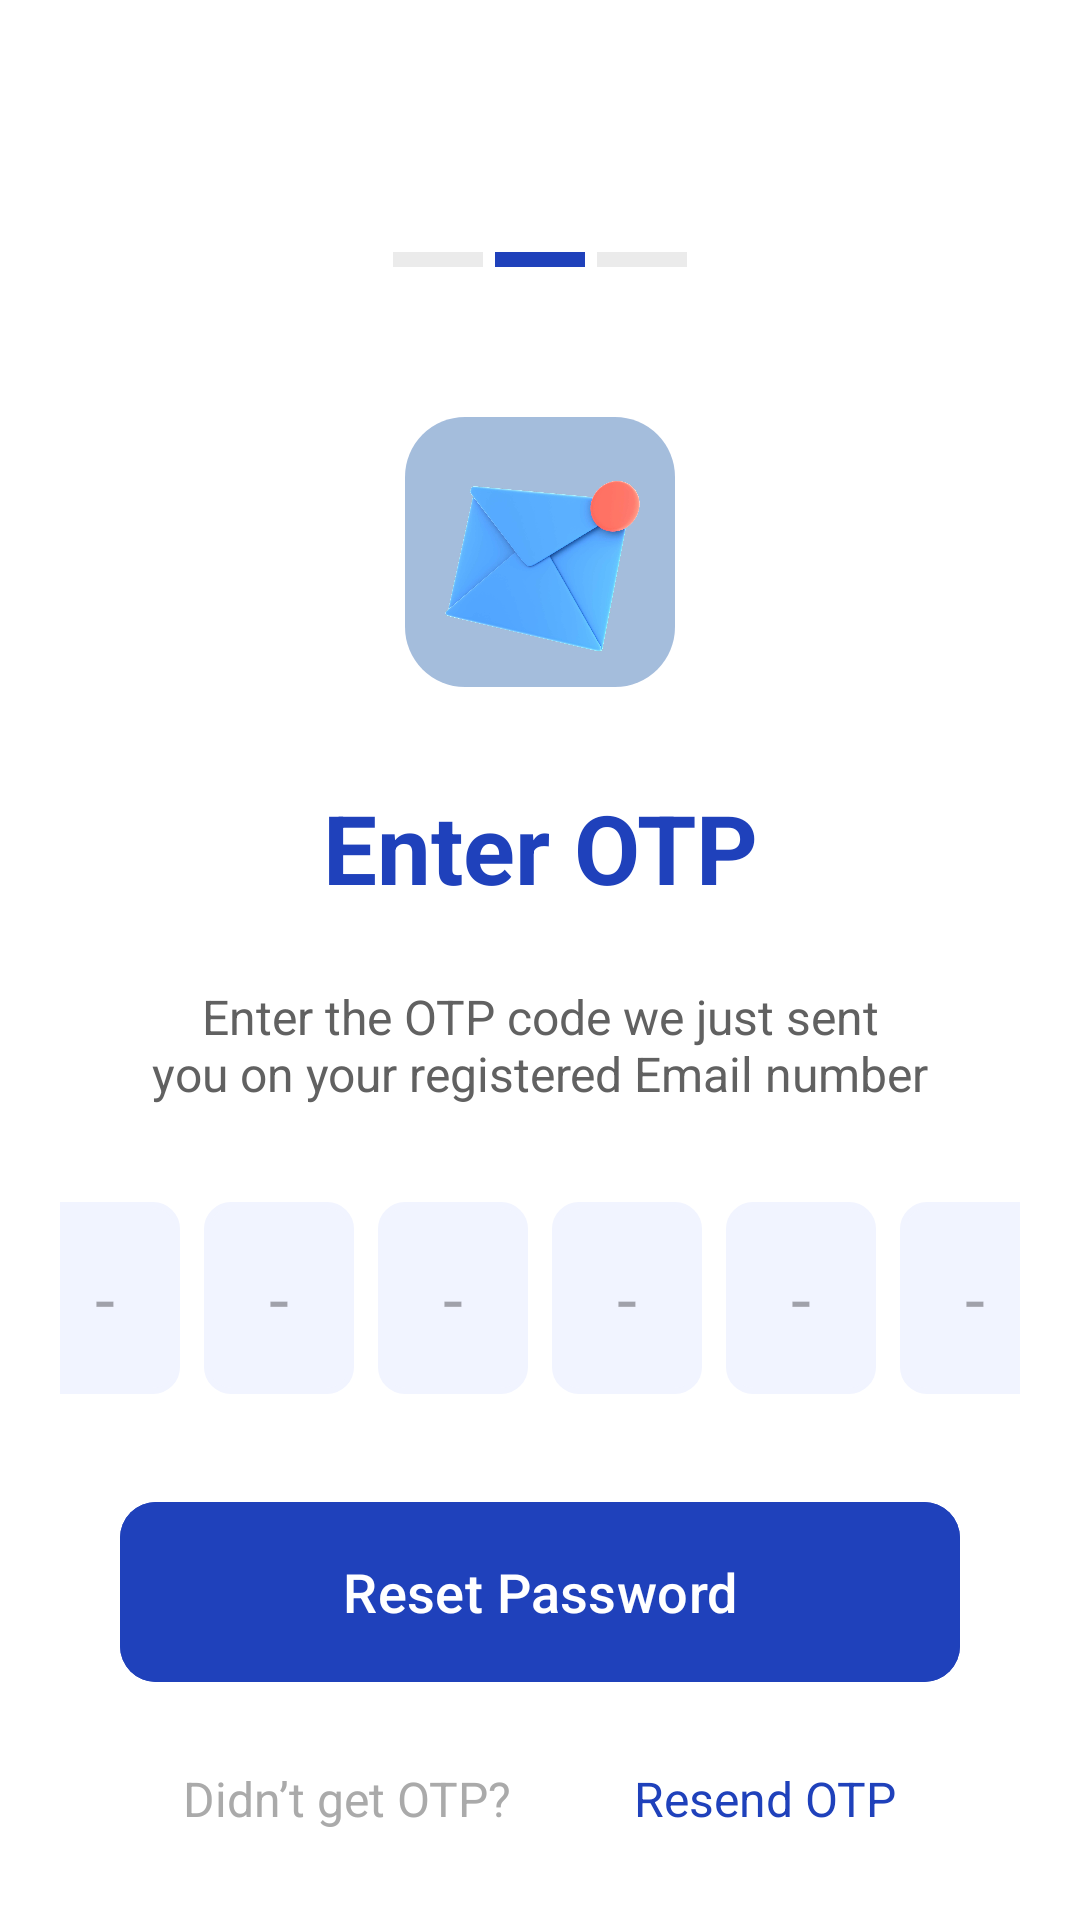

Locate icon controls on the screen. Image size 1080×1920, boxes as [x1,y1,x2,y2].
email: [405,417,675,687]
